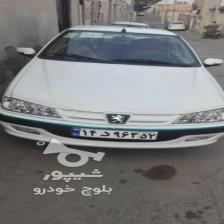plate: (71, 126, 156, 139)
